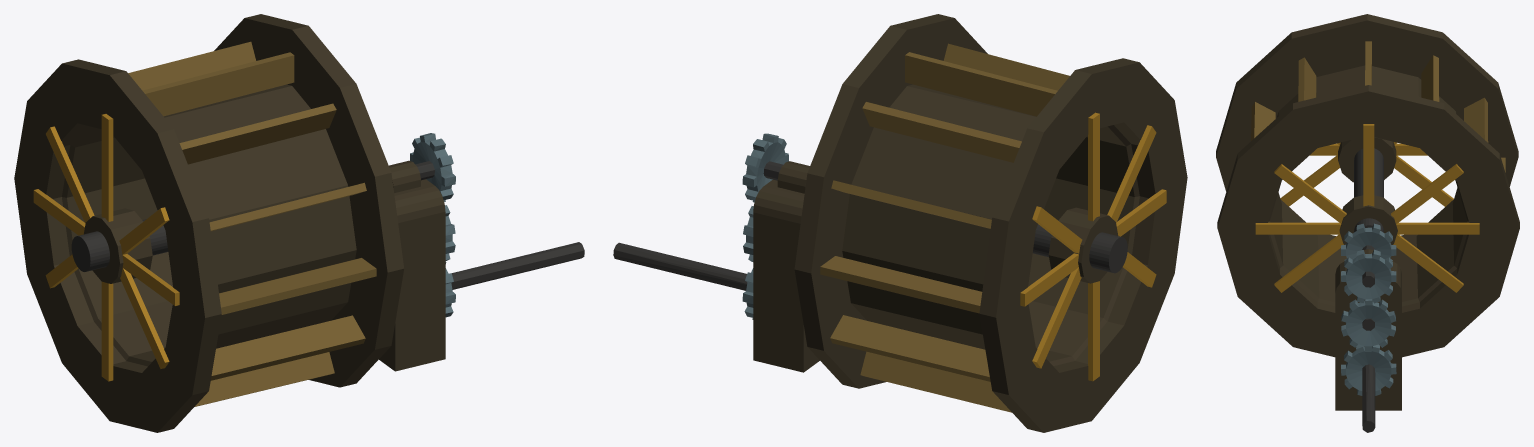
The model's file is Rueda Hidraulica.fbx.
3 renders of one model, left to right at view 1: azimuth 30°, elevation 25°; view 2: azimuth 150°, elevation 25°; view 3: azimuth 270°, elevation 25°, orthographic. The views are drawn at different scales.
Visible parts, largest first — view 1: Rueda total; view 2: Rueda total; view 3: Rueda total.
Part boxes in pixels (x1,y1,x2,y2): Rueda total: [14, 14, 584, 432]; Rueda total: [613, 14, 1187, 432]; Rueda total: [1216, 14, 1519, 432].
Size of the model in its own units: 1372 by 910 by 913.
